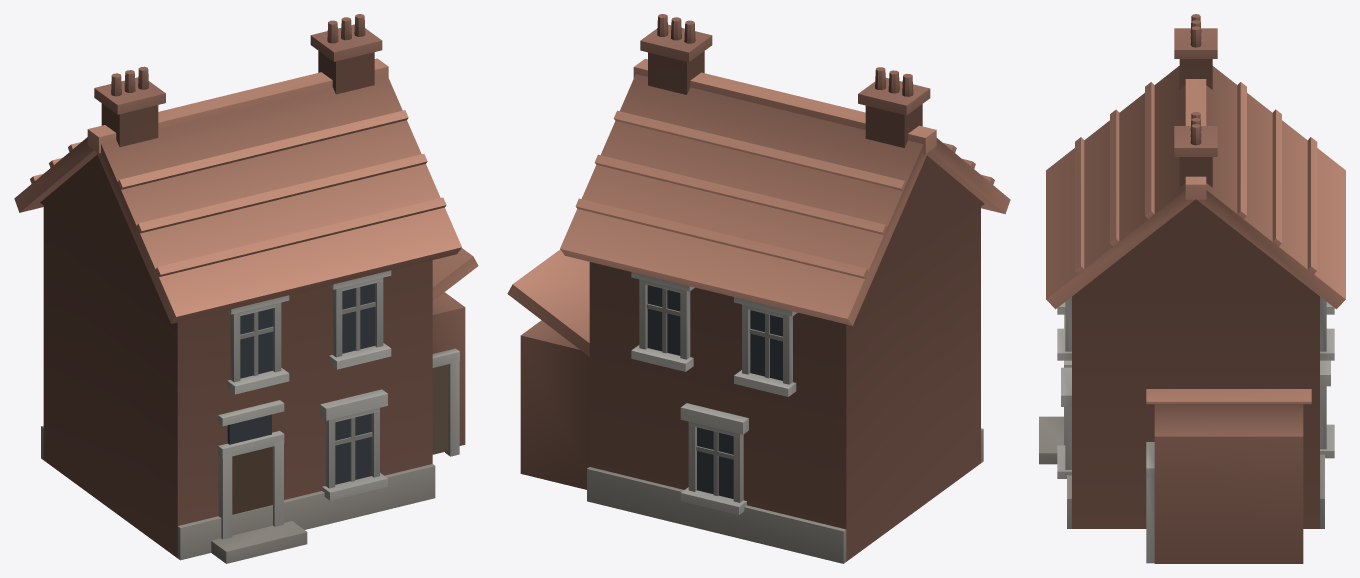
The model's file is house_industrial_1.glb.
3 views of the same model, side by side, from view 1: azimuth 30°, elevation 25°; view 2: azimuth 150°, elevation 25°; view 3: azimuth 270°, elevation 25° (orthographic). The views are drawn at different scales.
Visible parts, largest first — view 1: Body_Detail, Body_Roof; view 2: Body_Detail, Body_Roof; view 3: Body_Detail, Body_Roof.
Boxes of the visible parts, left/top/right/bottom form: Body_Detail: left=40, top=14, right=465, bottom=563; Body_Roof: left=14, top=58, right=478, bottom=323; Body_Detail: left=520, top=14, right=984, bottom=563; Body_Roof: left=507, top=58, right=1010, bottom=356; Body_Detail: left=1039, top=14, right=1334, bottom=563; Body_Roof: left=1046, top=66, right=1345, bottom=404.
Size of the model in its own units: 0.928 by 1.08 by 0.7429.
